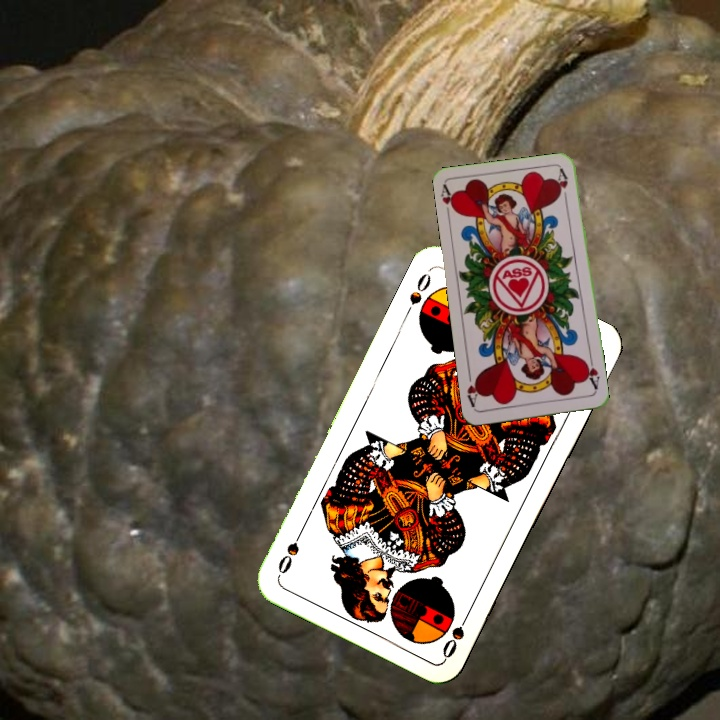HA: (437, 182, 459, 223), (580, 354, 602, 394)
SO: (438, 606, 474, 661), (401, 269, 434, 318)
